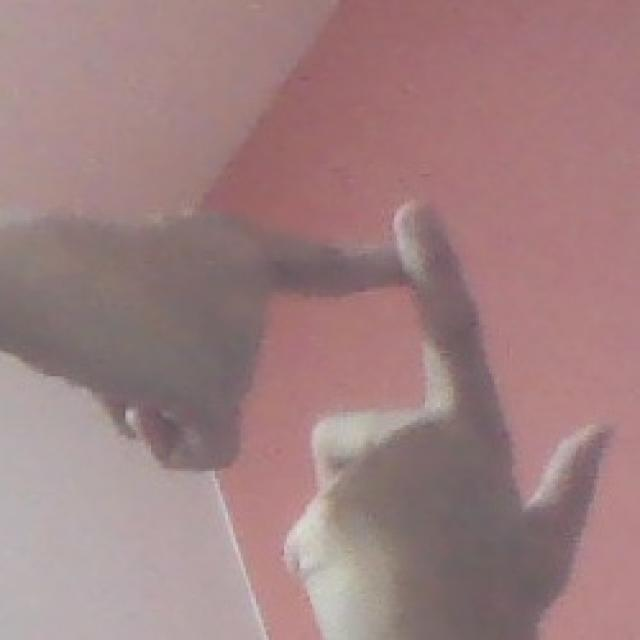Alphabet-J: (41, 125, 626, 629)
